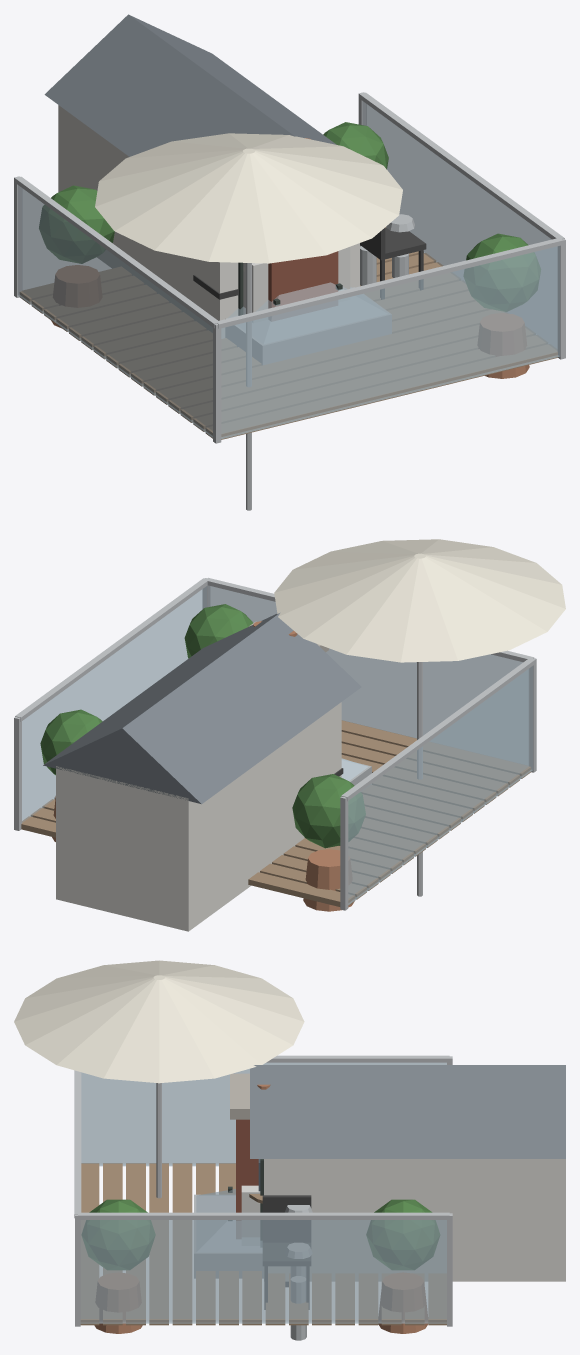
The model's file is roofkit.glb.
3 views of the same model, one above another, from view 1: azimuth 30°, elevation 25°; view 2: azimuth 150°, elevation 25°; view 3: azimuth 270°, elevation 25° (orthographic). The views are drawn at different scales.
Visible parts, largest first — view 1: rk_terrace, rk_dormer, rk_skylight, rk_chimney, rk_ac; view 2: rk_terrace, rk_dormer, rk_skylight; view 3: rk_terrace, rk_dormer, rk_skylight, rk_chimney, rk_ac.
Boxes of the visible parts, x1=… form: rk_terrace: x1=14, y1=92, x2=565, y2=510; rk_dormer: x1=44, y1=14, x2=359, y2=338; rk_skylight: x1=225, y1=282, x2=391, y2=364; rk_chimney: x1=268, y1=138, x2=338, y2=320; rk_ac: x1=243, y1=214, x2=414, y2=322; rk_terrace: x1=14, y1=539, x2=565, y2=911; rk_dormer: x1=43, y1=612, x2=361, y2=931; rk_skylight: x1=341, y1=758, x2=371, y2=785; rk_terrace: x1=14, y1=960, x2=452, y2=1333; rk_dormer: x1=250, y1=1065, x2=565, y2=1281; rk_skylight: x1=194, y1=1186, x2=263, y2=1278; rk_chimney: x1=230, y1=1073, x2=270, y2=1238; rk_ac: x1=241, y1=1185, x2=312, y2=1340.
Size of the model in its own units: 3.78 by 3.18 by 4.75.
